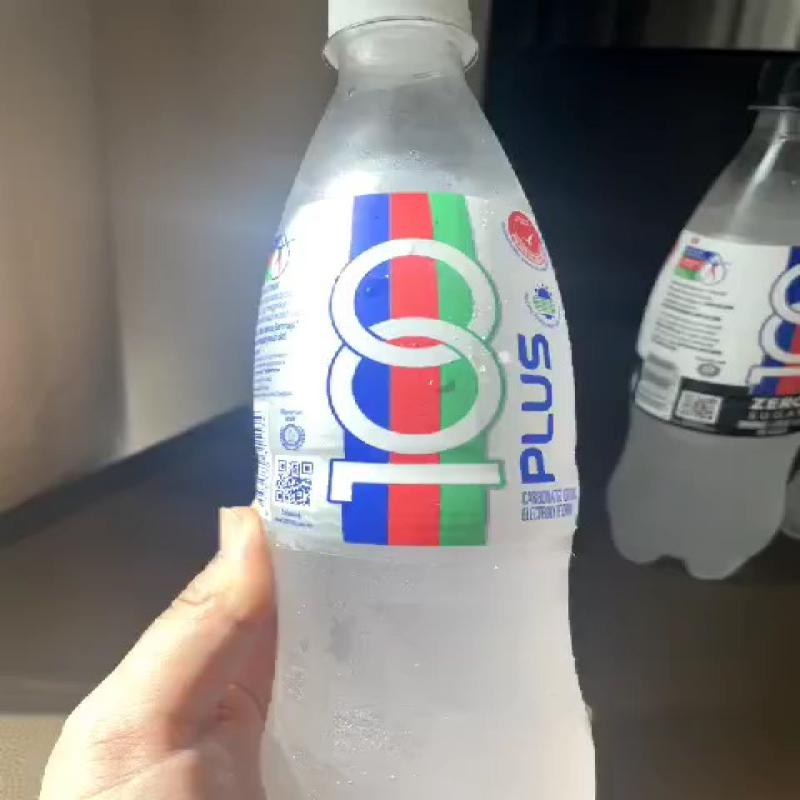botella: (248, 0, 592, 800), (608, 84, 800, 590)
